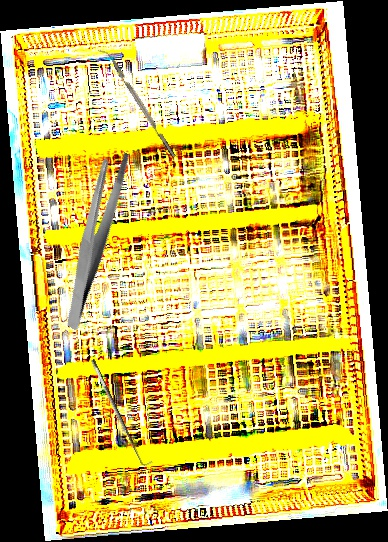Chopper: (98, 45, 176, 161)
Dressing Forceps: (22, 144, 167, 332)
Hook Surgical: (88, 354, 154, 471)
